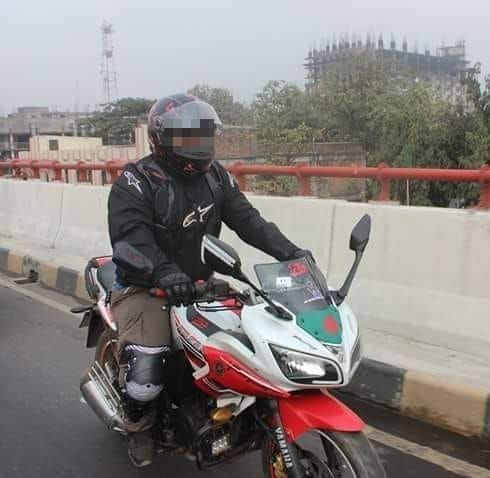bike: (71, 208, 392, 478)
